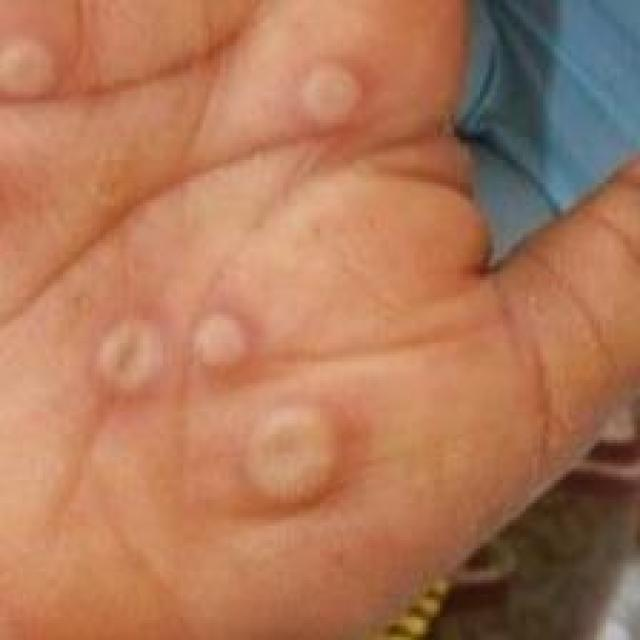monkeypox: (0, 0, 477, 603)
